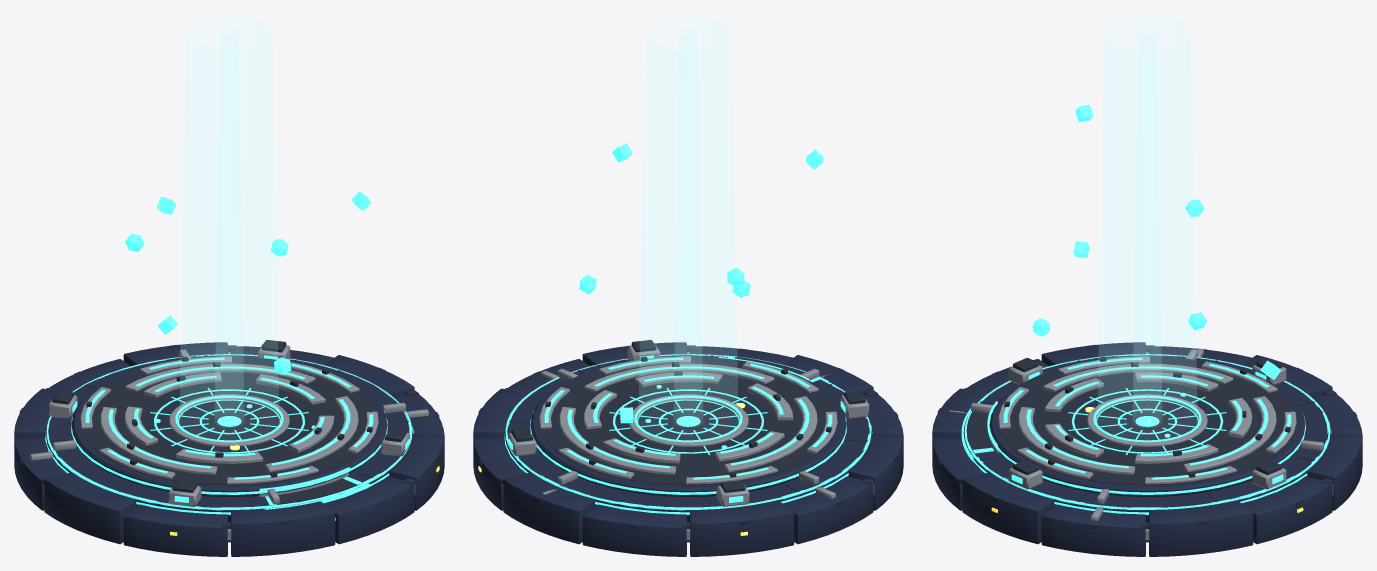
File: teleporter.glb
3 views of the same model, side by side, from view 1: azimuth 30°, elevation 25°; view 2: azimuth 150°, elevation 25°; view 3: azimuth 270°, elevation 25° (orthographic).
Parts seen in each view (by area): view 1: Platform, Beam, Ring1, Ring0, Ring2; view 2: Platform, Beam, Ring1, Ring0, Ring2; view 3: Platform, Beam, Ring1, Ring0, Ring2.
Boxes of the visible parts, box(x1,y1,x2,y2) form: Platform: box(14, 340, 444, 556); Beam: box(180, 29, 278, 427); Ring1: box(100, 362, 358, 474); Ring0: box(125, 372, 334, 463); Ring2: box(80, 356, 378, 484); Platform: box(473, 340, 903, 556); Beam: box(639, 29, 737, 427); Ring1: box(559, 362, 817, 474); Ring0: box(584, 370, 793, 463); Ring2: box(539, 356, 837, 484); Platform: box(932, 342, 1362, 556); Beam: box(1098, 28, 1196, 427); Ring1: box(1018, 362, 1276, 474); Ring0: box(1045, 372, 1252, 463); Ring2: box(998, 356, 1296, 484).
Bounding box in the file's own units: 3 × 3.34 × 3.
